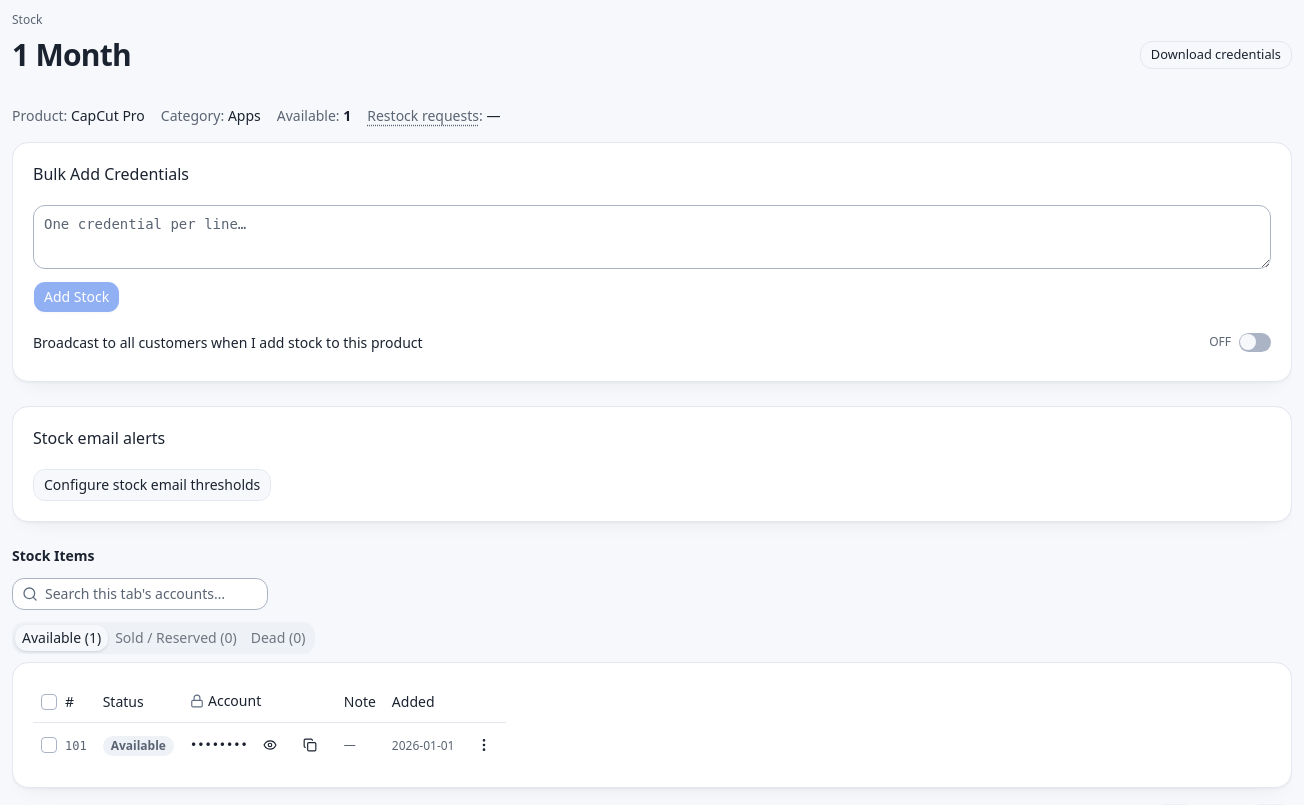
Scenario: StockProductPage › rolls the broadcast switch back and shows a toast when the POST is rejected
This screenshot has width=1304, height=805.
Expected: the text "Available" is shown, [103,736,174,756]
Click the switch named "broadcast to all customers when i add stock to this product": (1255, 342) [1239,333,1271,352]
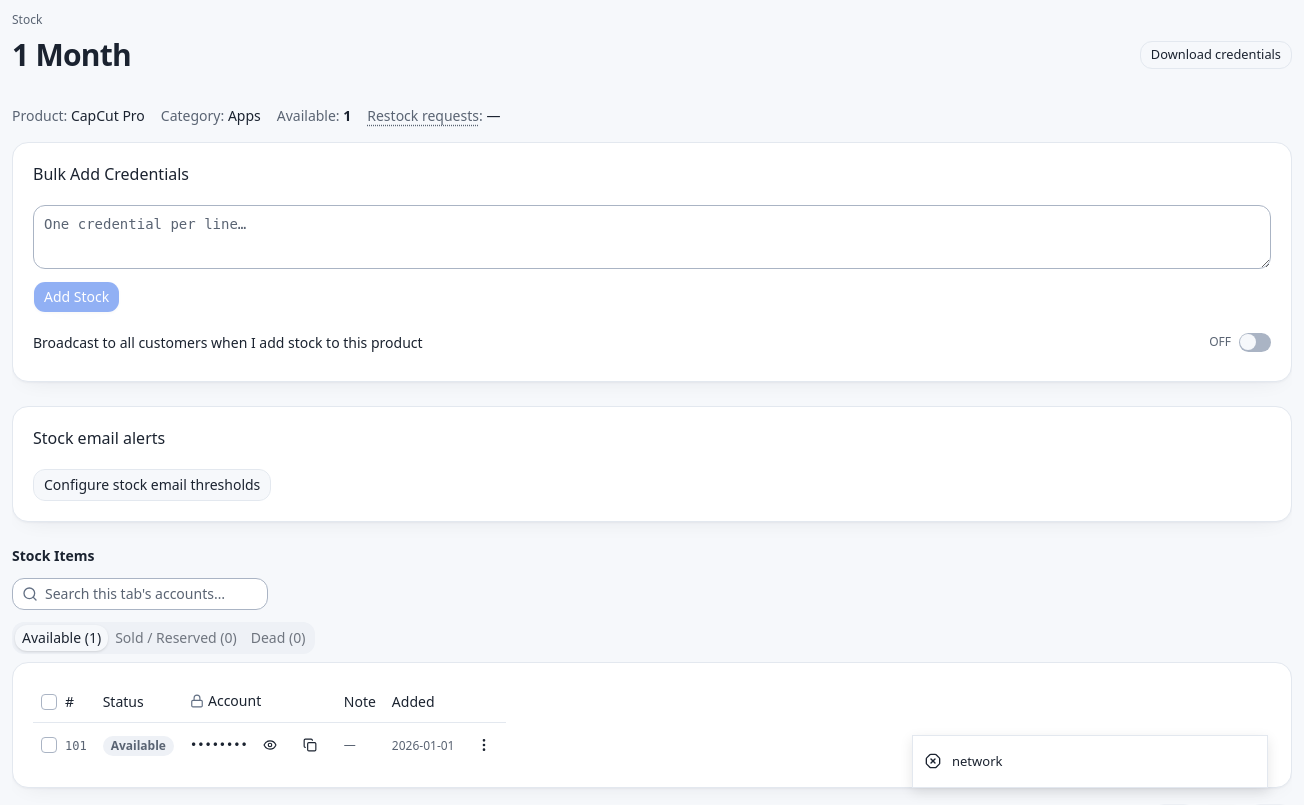
Expected: the text "network" is shown, [952,752,1002,771]
